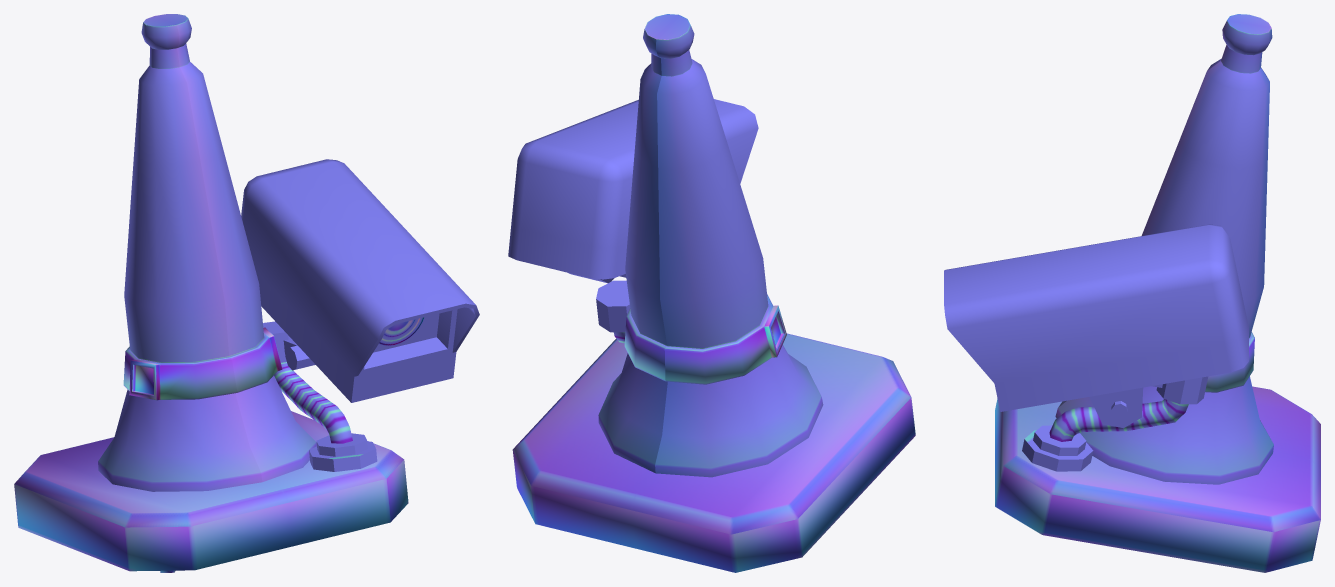
File: ConeCamHat.obj
The picture shows the model from 3 angles, left to right: view 1: azimuth 30°, elevation 25°; view 2: azimuth 150°, elevation 25°; view 3: azimuth 270°, elevation 25°; orthographic projection. The views are drawn at different scales.
Visible parts, largest first — view 1: ConeHat_Cube; view 2: ConeHat_Cube; view 3: ConeHat_Cube.
Boxes of the visible parts, x1,y1,x2,y2 form: ConeHat_Cube: (14,14,479,572); ConeHat_Cube: (508,14,915,572); ConeHat_Cube: (944,14,1320,572).
Size of the model in its own units: 13.27 by 20.6 by 14.25.
Materials: 1 (1 with a texture image).
